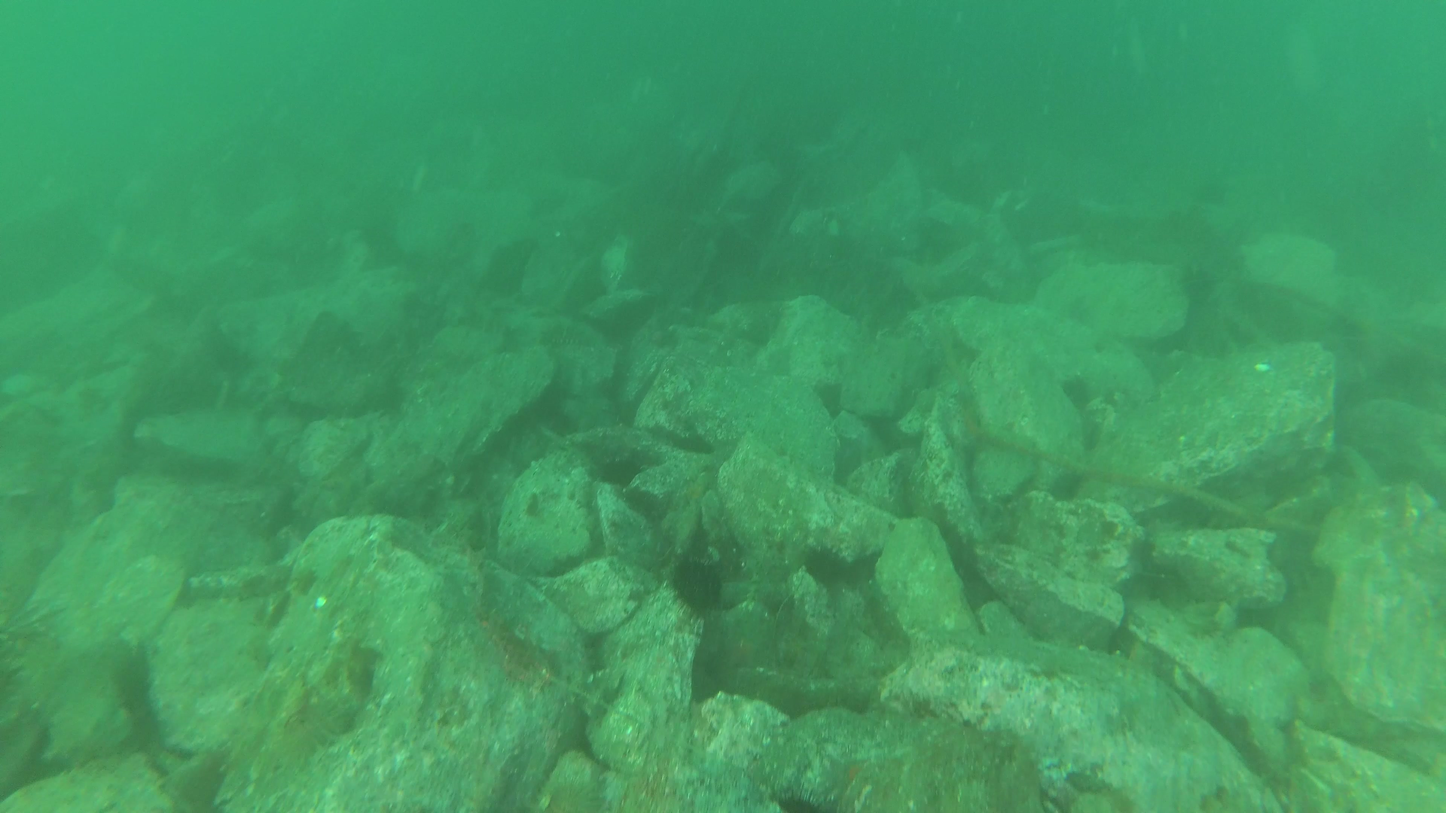starfish: (665, 554, 731, 617), (798, 539, 852, 596)
